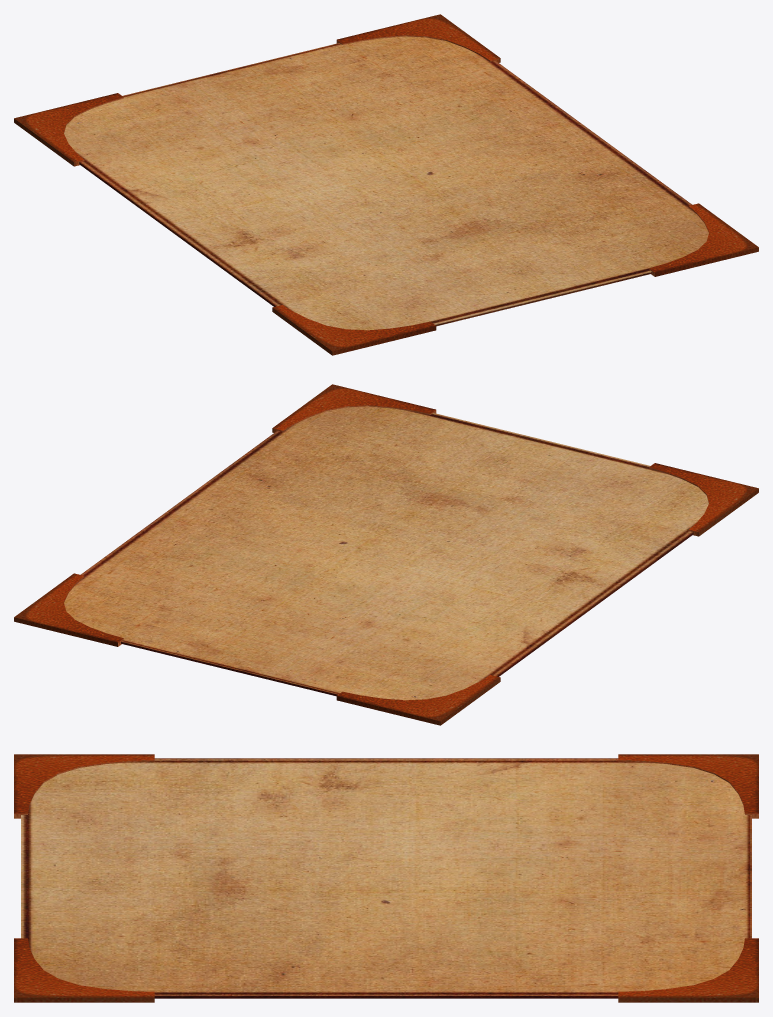
File: card.glb
The picture shows the model from 3 angles, top to bottom: view 1: azimuth 30°, elevation 25°; view 2: azimuth 150°, elevation 25°; view 3: azimuth 270°, elevation 25°; orthographic projection. The views are drawn at different scales.
Visible parts, largest first — view 1: Card; view 2: Card; view 3: Card.
Boxes of the visible parts, x1,y1,x2,y2 form: Card: (14, 14, 758, 355); Card: (14, 384, 758, 725); Card: (14, 754, 758, 1002).
Bounding box in the file's own units: 8.2 × 0.1214 × 10.6.
Materials: 1 (1 with a texture image).
